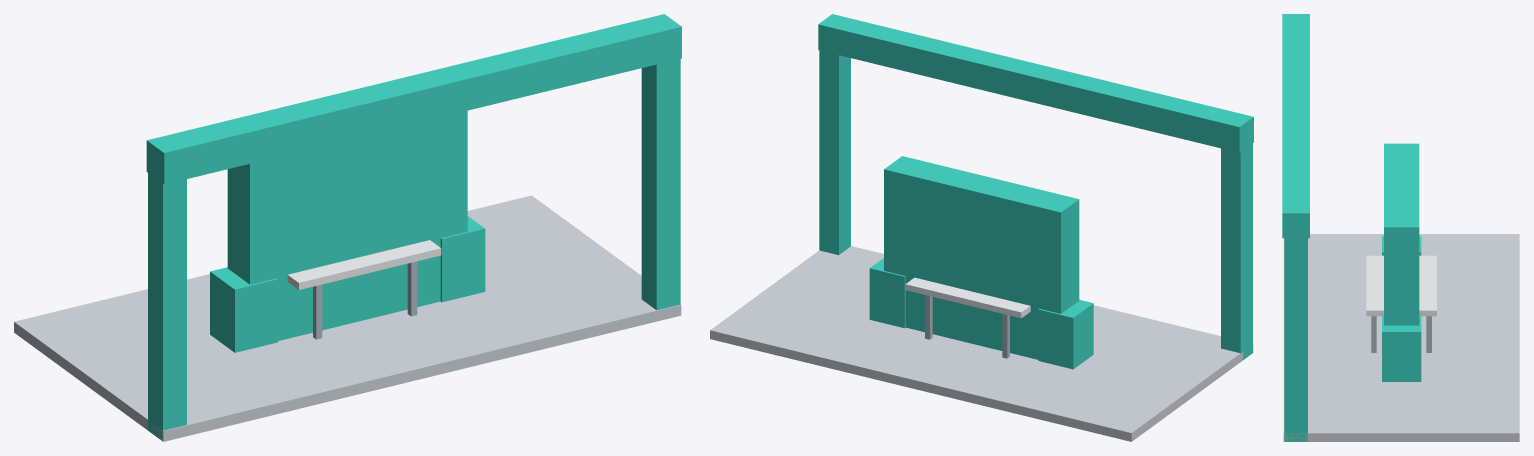
3 renders of one model, left to right at view 1: azimuth 30°, elevation 25°; view 2: azimuth 150°, elevation 25°; view 3: azimuth 270°, elevation 25°, orthographic. The views are drawn at different scales.
Visible parts, largest first — view 1: Exhibition Booth Concept; view 2: Exhibition Booth Concept; view 3: Exhibition Booth Concept.
Boxes of the visible parts, left/top/right/bottom form: Exhibition Booth Concept: left=14, top=14, right=681, bottom=441; Exhibition Booth Concept: left=710, top=14, right=1253, bottom=441; Exhibition Booth Concept: left=1282, top=14, right=1519, bottom=441.
Size of the model in its own units: 6 by 3.2 by 3.01.
